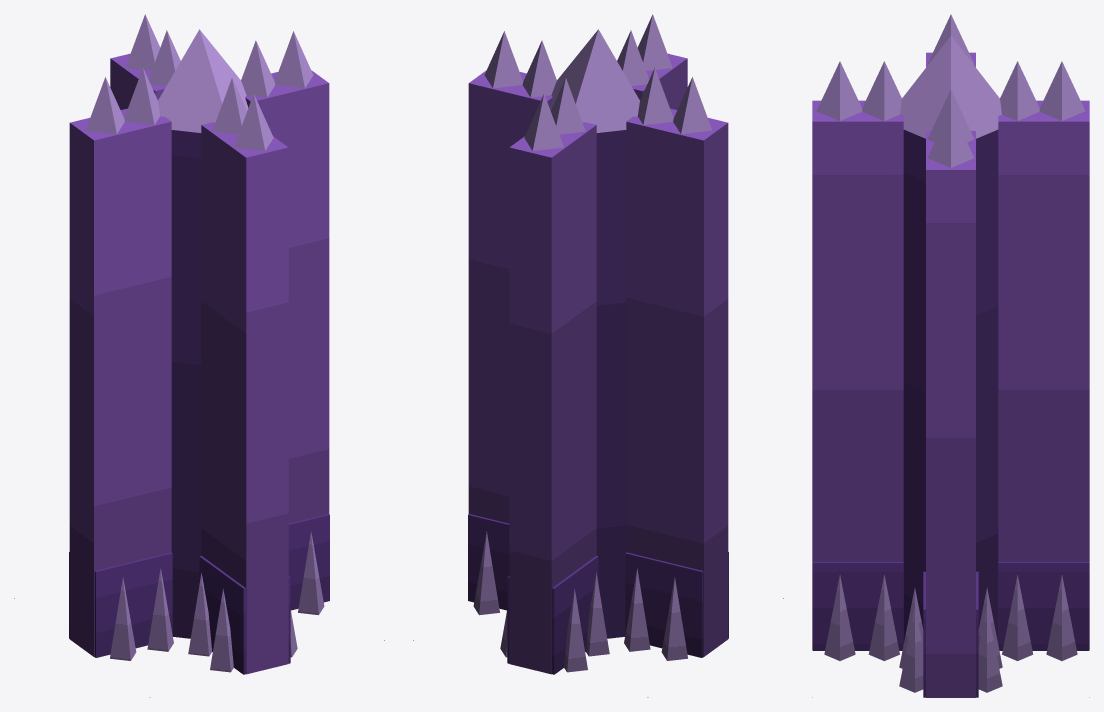
File: wall_crystal_cross.glb
The picture shows the model from 3 angles, left to right: view 1: azimuth 30°, elevation 25°; view 2: azimuth 150°, elevation 25°; view 3: azimuth 270°, elevation 25°; orthographic projection. The views are drawn at different scales.
Size of the model in its own units: 1 by 2.4 by 1.
Materials: 1 (1 with a texture image).
